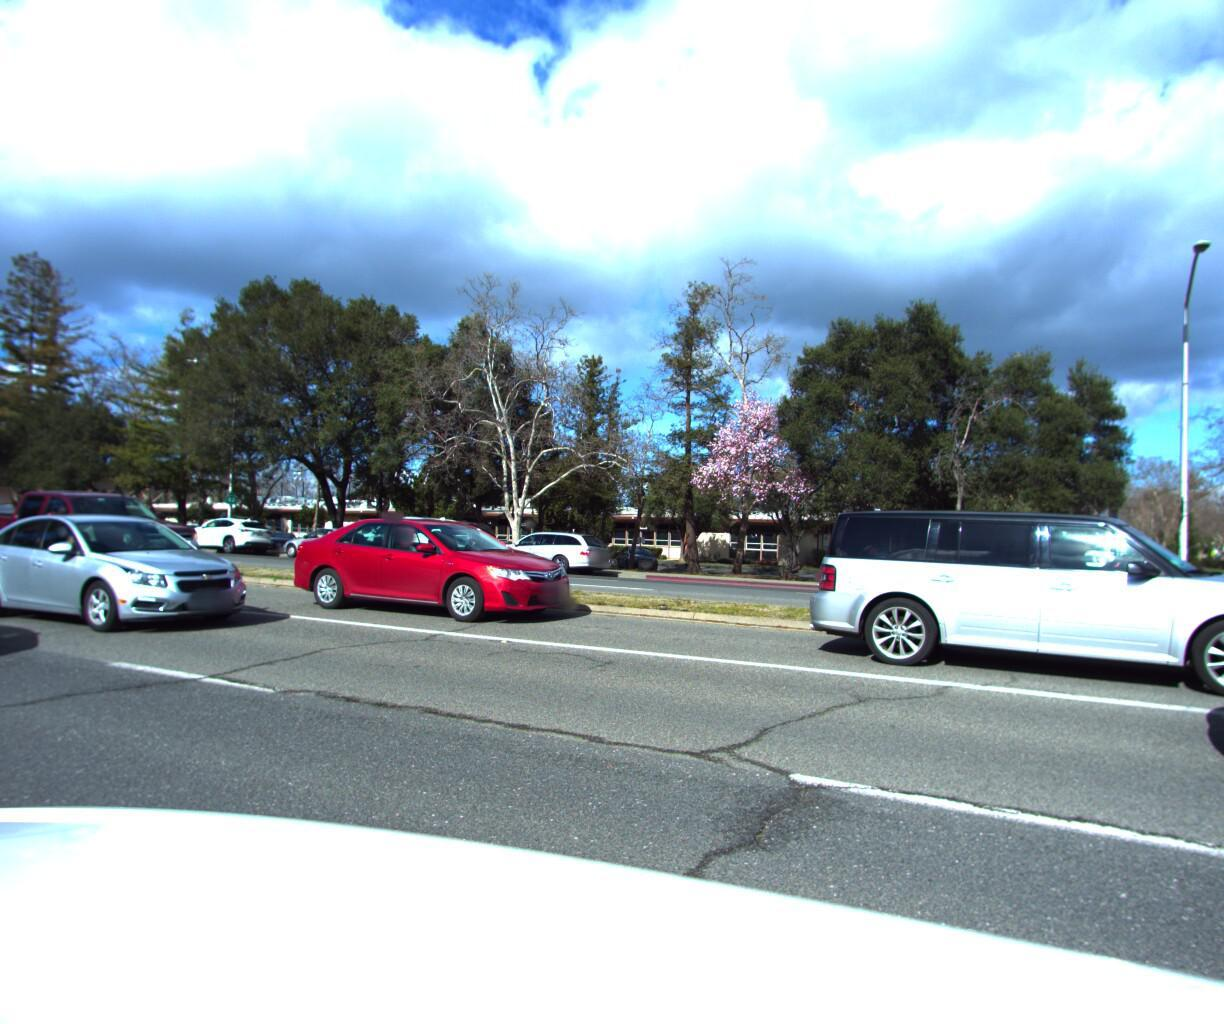car: (802, 511, 1224, 733), (0, 518, 280, 652), (280, 523, 586, 641), (0, 493, 222, 603), (1190, 527, 1224, 1024), (327, 519, 478, 577), (472, 533, 616, 587), (176, 521, 280, 566), (276, 531, 384, 571), (0, 520, 34, 550)
